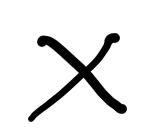mult: (28, 33, 130, 122)
